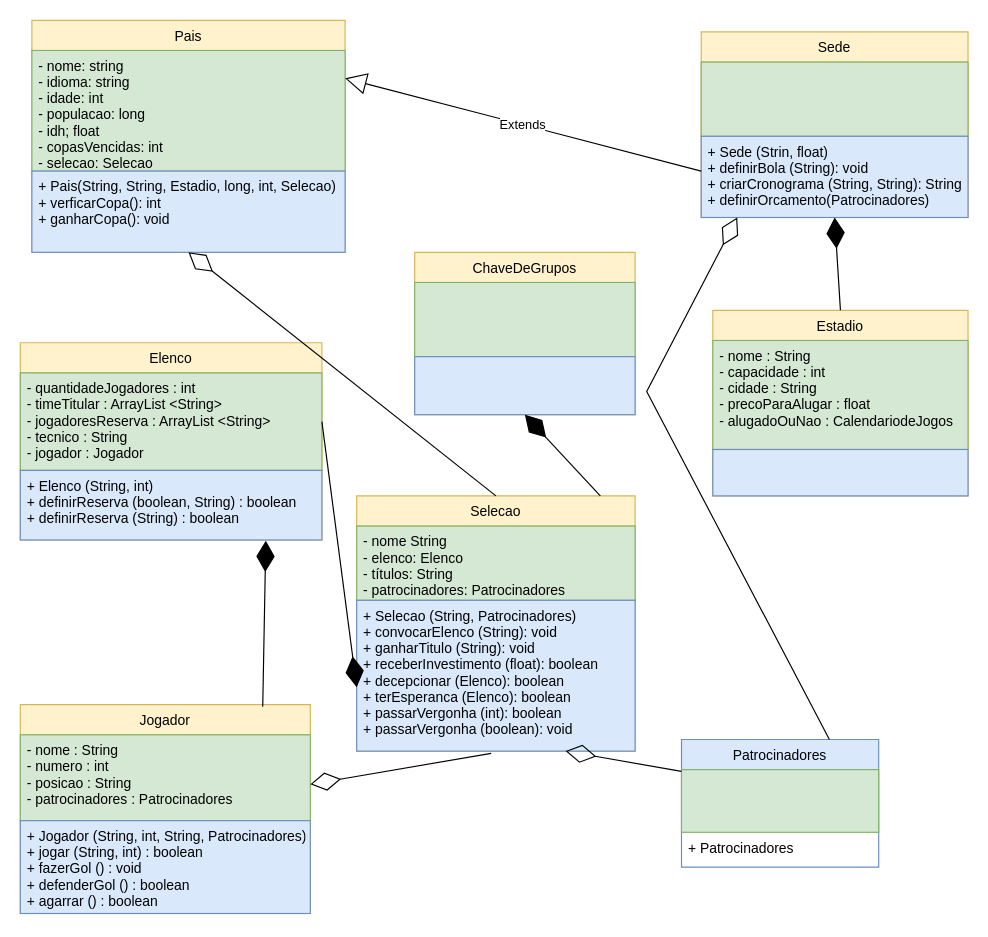
Some shapes in this 988 by 937 pixel diagram are drawn without their labels. The centre of each missing label's shape, as x and y in pixels:
+ chavesdeGrupo (String, int) + definirColocacoes (int, selecao: point 524,385
+ Estadio (String, int) + AlugadoOuNao () : boolean: point 840,472
- nomedoGrupo : String - rodada : int - times : selecao: point 524,319
- nomeEmpresa : String - verbaDisponivel; int - ramoEmpresa : String: point 779,800
- organizadores: String - orcamento: float - bola: String - atracoes: String: point 834,98
